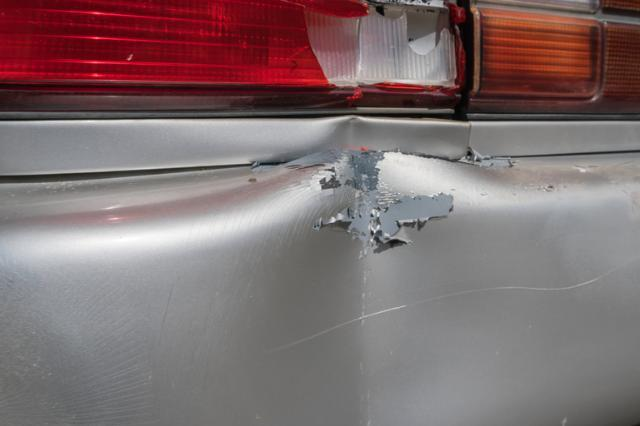Bumper: (217, 113, 618, 354)
Light: (282, 0, 524, 110)
